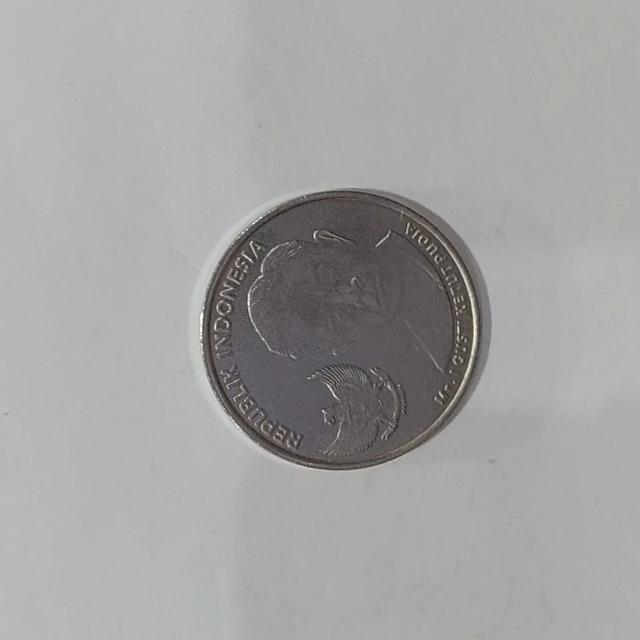Rp100: (198, 186, 486, 471)
